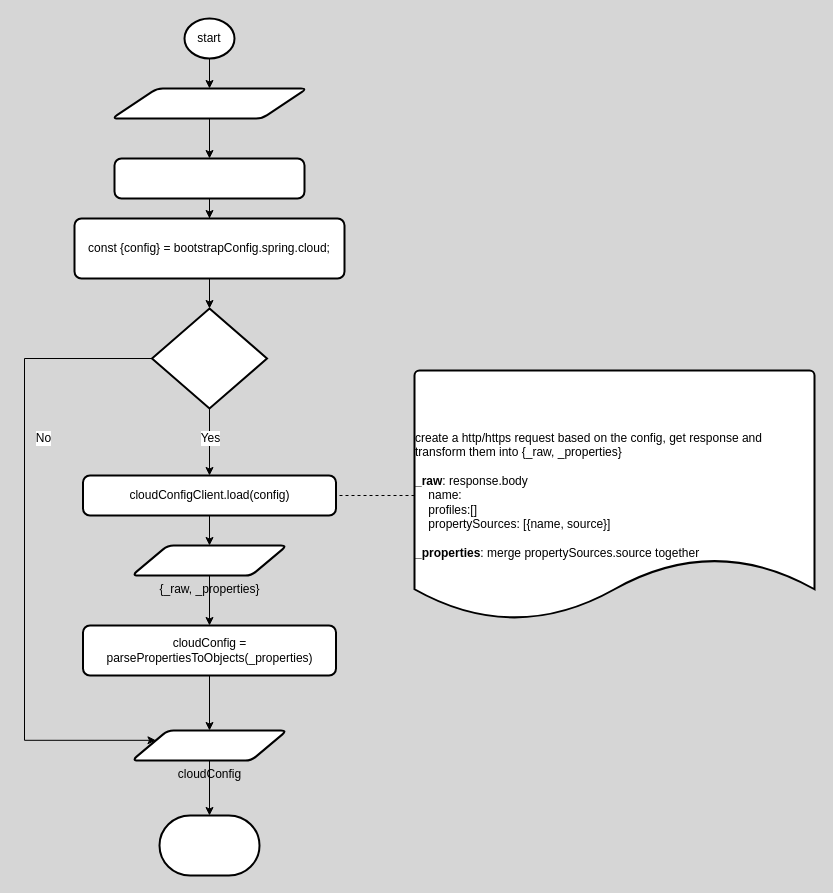
Some shapes in this 833 by 893 pixel diagram are drawn without their labels. The shapes that lost their labels are listed below. From the top down, each one's centre as x and y in pixels, then its label:
At point (209, 103): "bootstrapConfig".
At point (209, 178): "let cloudConfig = {}".
At point (209, 358): "config.enable?".
At point (209, 845): "end".
